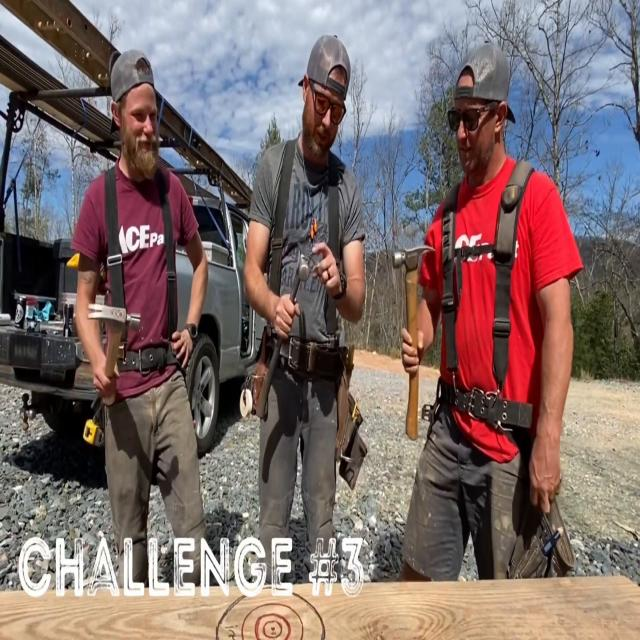hammer: (392, 244, 436, 440), (87, 305, 141, 376)
